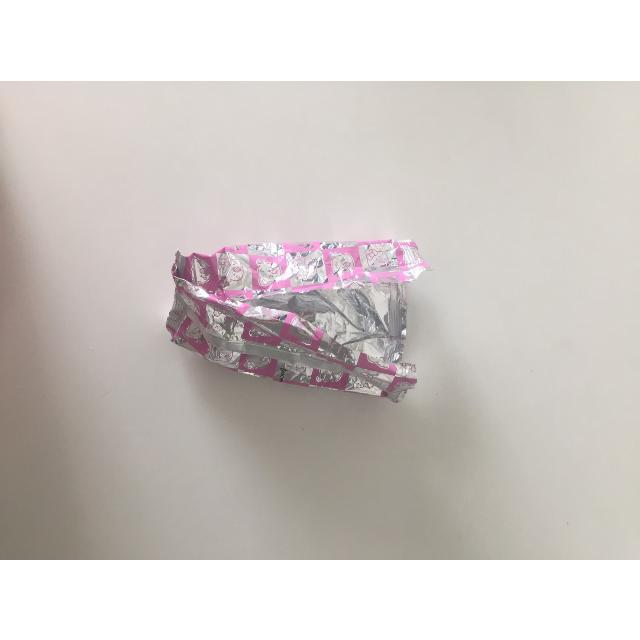Paquete de plastico: (167, 237, 423, 405)
